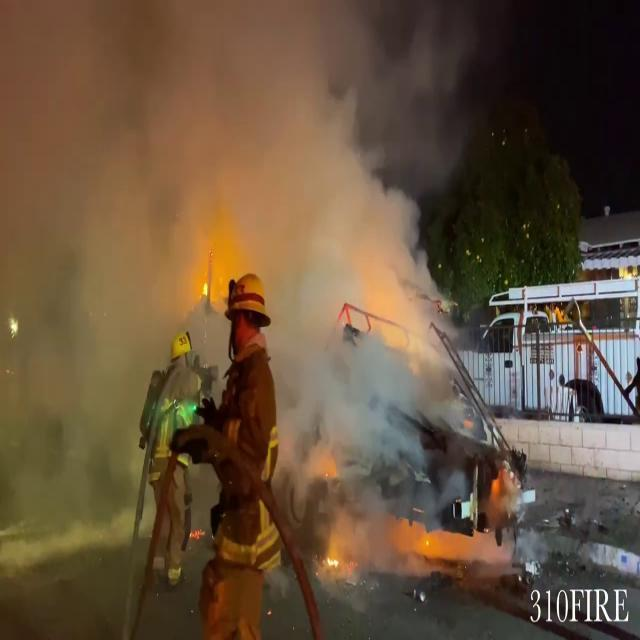Smoke: (0, 0, 464, 440)
